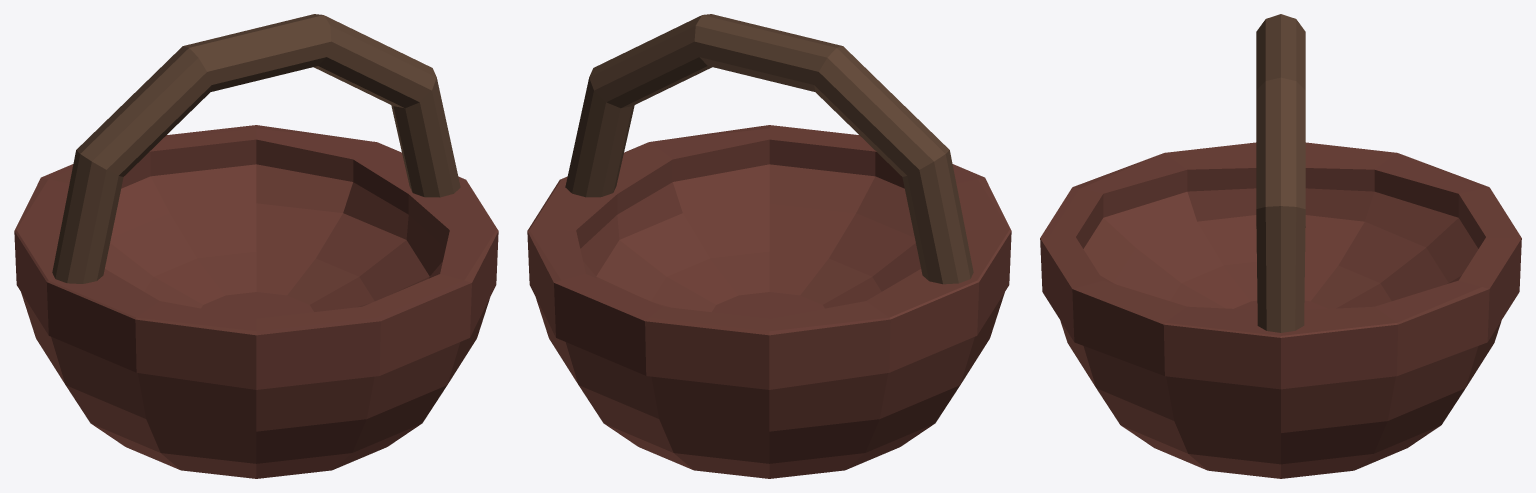
Rendered from basket.fbx.
The picture shows the model from 3 angles, left to right: view 1: azimuth 30°, elevation 25°; view 2: azimuth 150°, elevation 25°; view 3: azimuth 270°, elevation 25°; orthographic projection. The views are drawn at different scales.
Parts seen in each view (by area): view 1: Torus; view 2: Torus; view 3: Torus.
Boxes of the visible parts, x1,y1,x2,y2 form: Torus: (14,14,498,478); Torus: (527,14,1011,478); Torus: (1040,14,1521,478).
Bounding box in the file's own units: 101 × 91.08 × 104.
